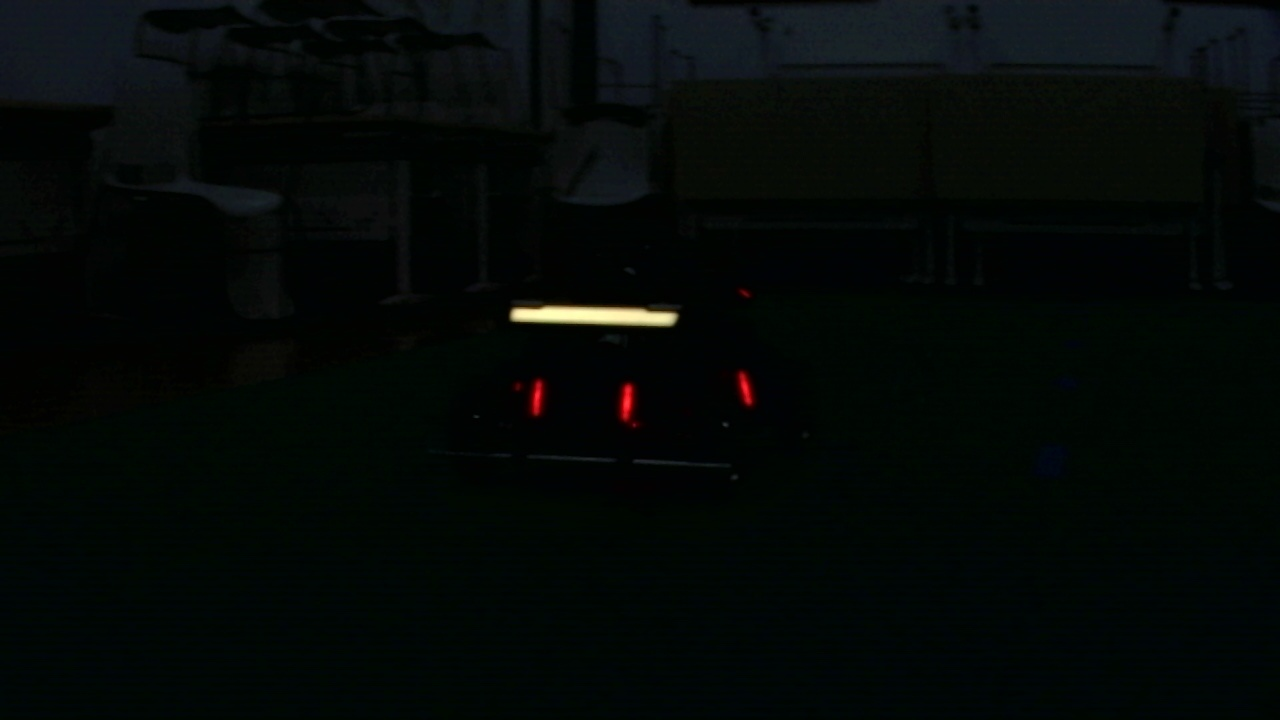lamp: (732, 372, 757, 407), (618, 384, 638, 420), (531, 379, 545, 415)
pair1: (532, 379, 634, 418)
